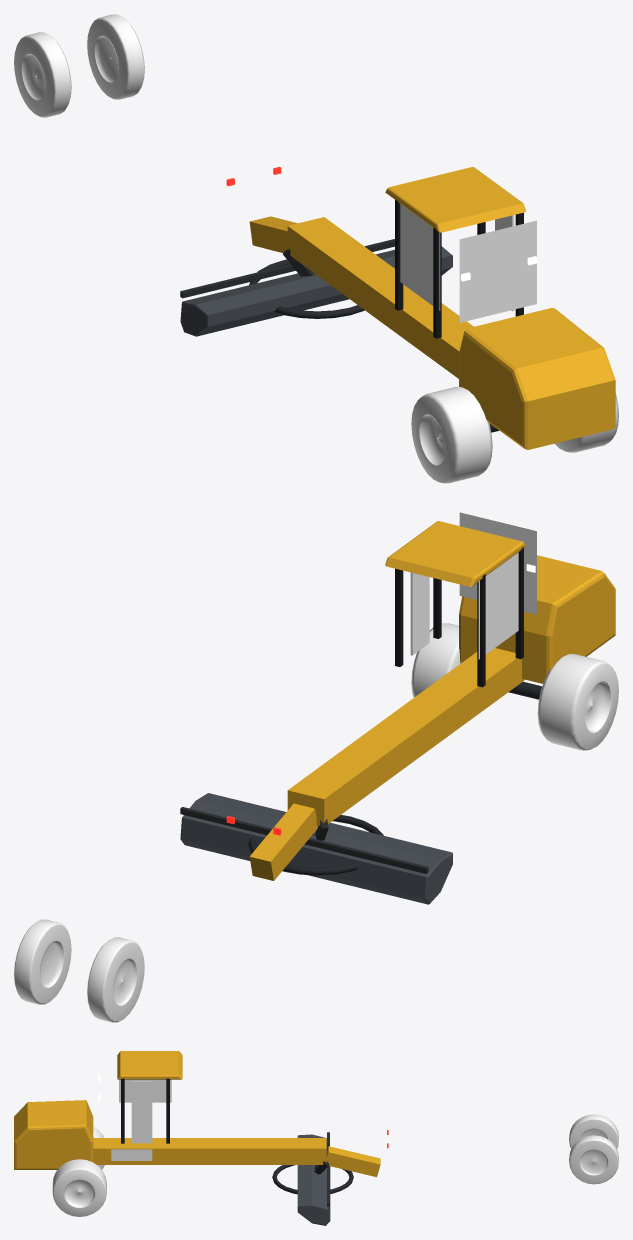
The model's file is equipment--grader.glb.
The picture shows the model from 3 angles, top to bottom: view 1: azimuth 30°, elevation 25°; view 2: azimuth 150°, elevation 25°; view 3: azimuth 270°, elevation 25°; orthographic projection. The views are drawn at different scales.
Parts seen in each view (by area): view 1: grader:shell, moldboard, axleRear, wheelFL, wheelFR, circle; view 2: grader:shell, moldboard, axleRear, wheelFR, wheelFL, door, circle; view 3: grader:shell, axleRear, wheelFL, moldboard, door, wheelFR, circle.
Part boxes in pixels (bbox=[...]): grader:shell: bbox=[249, 167, 615, 449]; moldboard: bbox=[180, 239, 452, 336]; axleRear: bbox=[411, 387, 618, 483]; wheelFL: bbox=[87, 14, 144, 99]; wheelFR: bbox=[14, 32, 71, 117]; circle: bbox=[249, 259, 364, 318]; grader:shell: bbox=[249, 512, 615, 880]; moldboard: bbox=[180, 793, 452, 904]; axleRear: bbox=[411, 623, 618, 750]; wheelFR: bbox=[87, 937, 144, 1022]; wheelFL: bbox=[14, 919, 71, 1004]; door: bbox=[410, 572, 429, 655]; circle: bbox=[248, 815, 383, 875]; grader:shell: bbox=[14, 1051, 380, 1177]; axleRear: bbox=[52, 1126, 106, 1216]; wheelFL: bbox=[569, 1135, 618, 1184]; moldboard: bbox=[297, 1132, 330, 1225]; door: bbox=[131, 1081, 152, 1143]; wheelFR: bbox=[569, 1114, 618, 1161]; circle: bbox=[272, 1165, 353, 1194].
Bounding box in the file's own units: 3.7 × 3.2 × 13.35.
